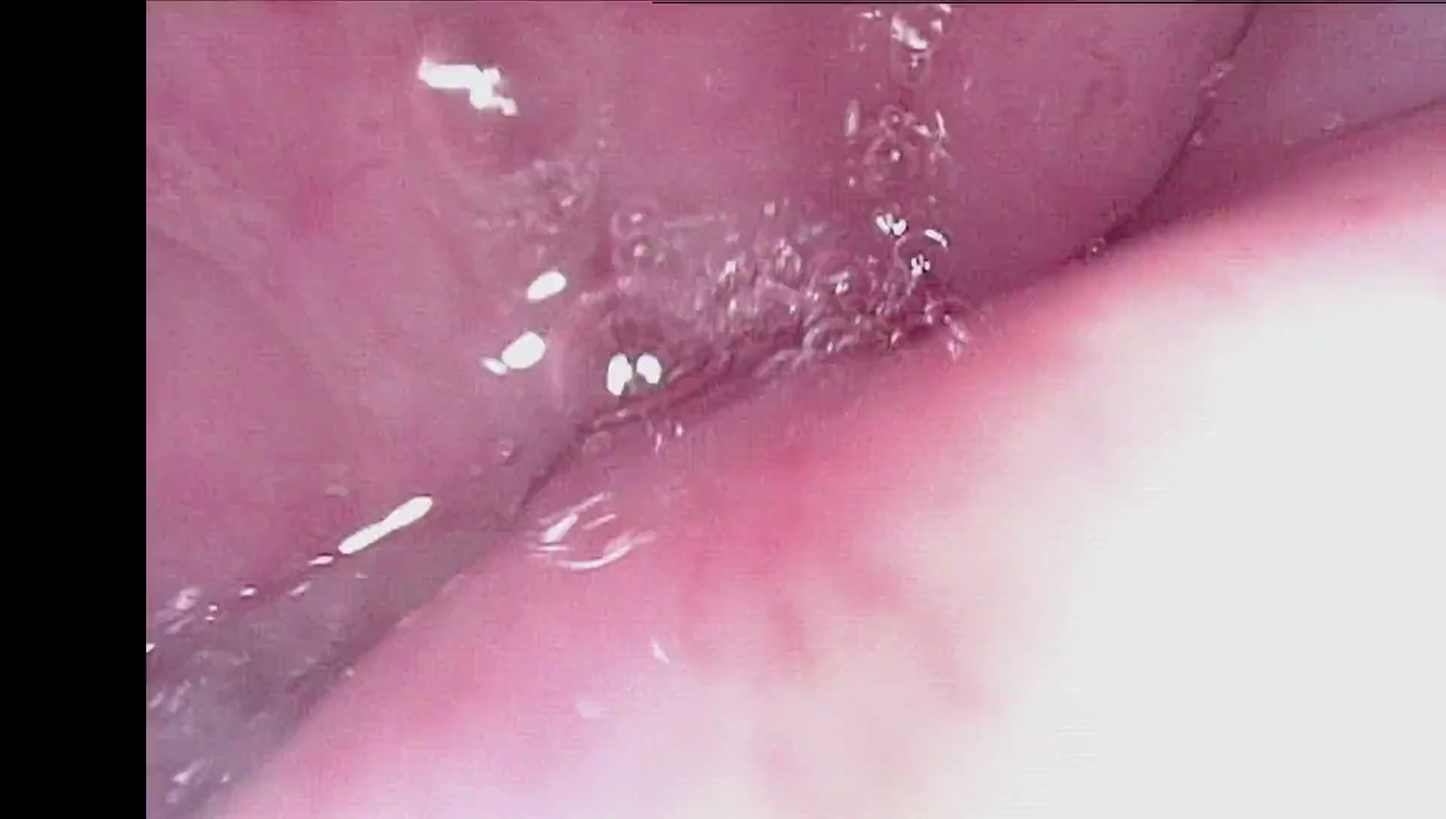close_wall: (471, 168, 1446, 819)
